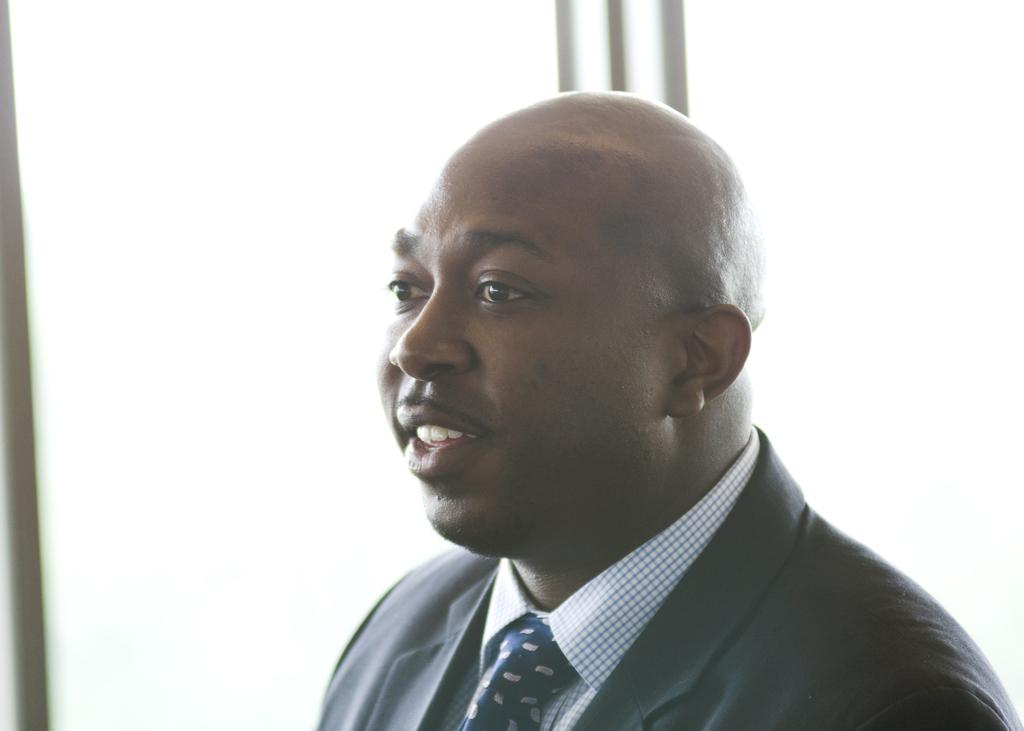Sem Máscara: (375, 120, 678, 542)
